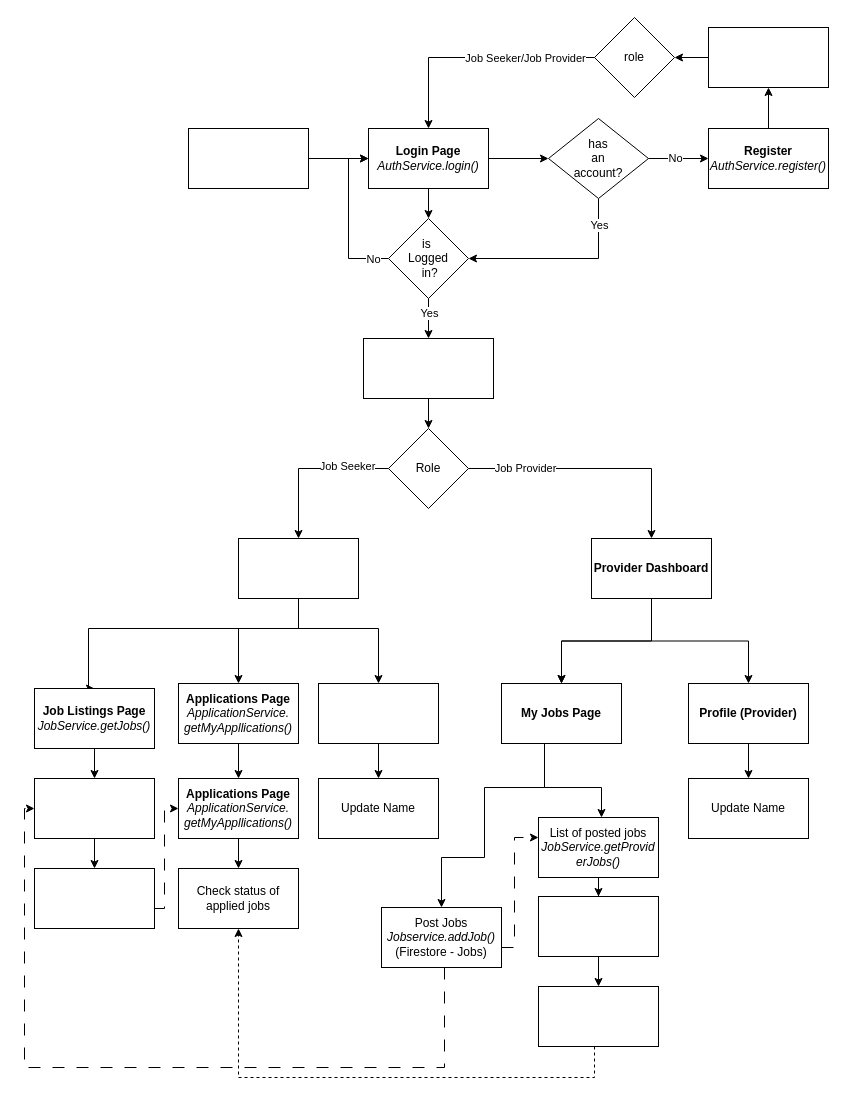
Image size: 846x1103. Some labels were removed from this diagram. Here are the shapes that lost their labels. From the top down, the box of each, then its label:
(708, 26, 828, 88): Fill in detals Future registerUser()
(188, 128, 308, 188): Landing Page
(362, 338, 494, 398): Get User Data UserService.getUser() from Firestore - Users
(238, 538, 358, 598): Seeker Dashboard
(318, 682, 438, 744): Profile (Seeker)
(34, 778, 154, 838): Job Feed JobService.getJobs()
(34, 868, 154, 928): Job Card [Apply Now] ApplicationService. applyForJob(jobId)
(538, 896, 658, 956): List of Applicants for each job ApplicationService.get Applicants(jobId)
(538, 986, 658, 1046): Update status of each applicant (reviewed, successful or rejected)
